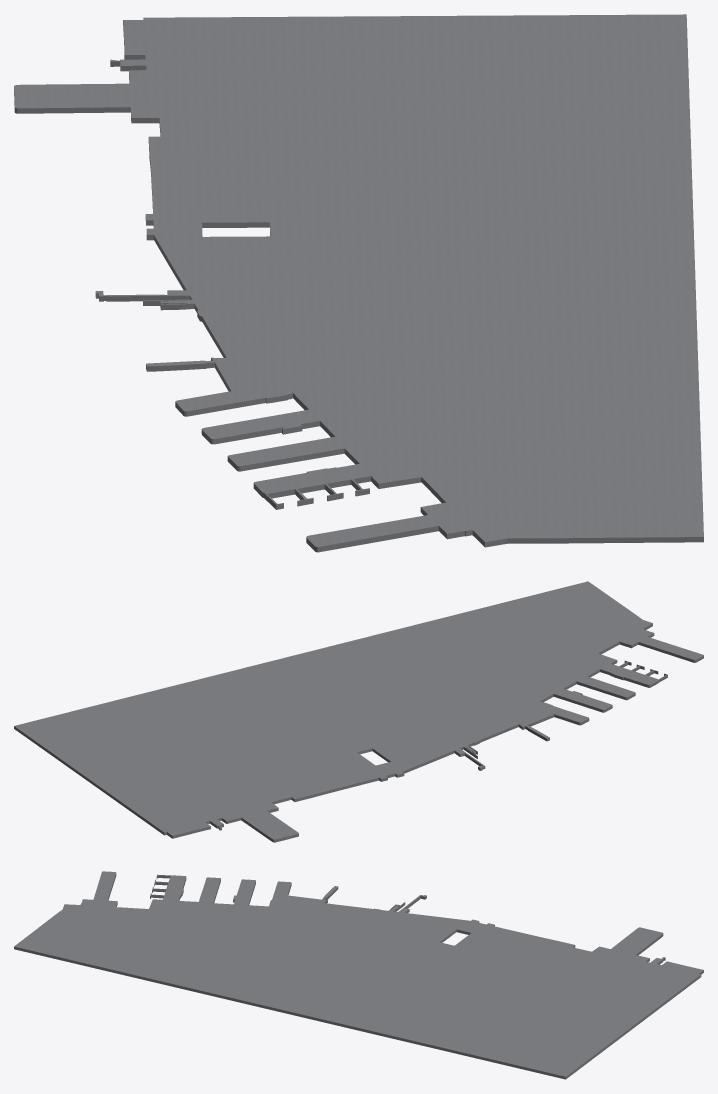
File: terrain.glb
3 views of the same model, one above another, from view 1: azimuth 30°, elevation 25°; view 2: azimuth 150°, elevation 25°; view 3: azimuth 270°, elevation 25° (orthographic). The views are drawn at different scales.
Visible parts, largest first — view 1: Object_165.001; view 2: Object_165.001; view 3: Object_165.001.
Boxes of the visible parts, x1,y1,x2,y2 form: Object_165.001: (14, 14, 703, 552); Object_165.001: (14, 581, 703, 842); Object_165.001: (14, 871, 703, 1079).
Size of the model in its own units: 1577 by 9.75 by 2237.
1 material, 1 textured.
